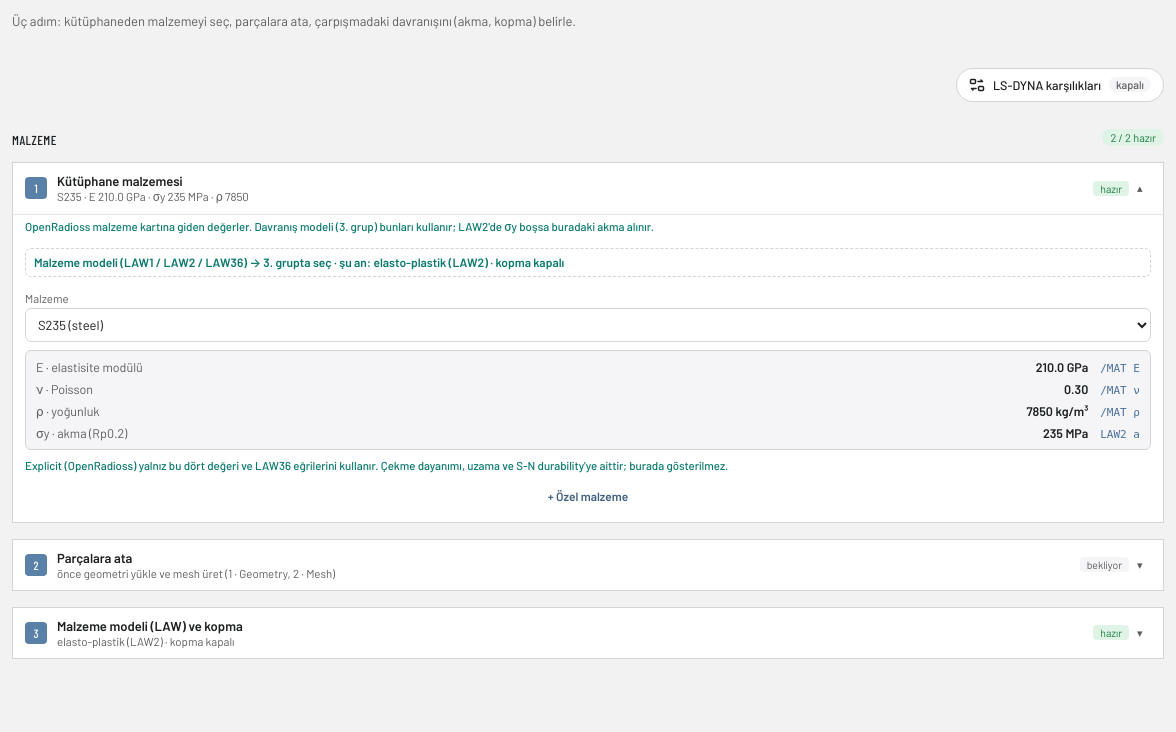
CrashMaterialStep (3 · Material, BC gibi akordeon) › geometri / mesh yokken atama grubu 'eksik' değil 'bekliyor'; sayaç 2 grup üzerinden
Expected: the text with test id "crash-mat-ready" reads "2 / 2 hazır", [1102,129,1164,146]
Step 1. Click the button "Parçalara ata" → (95, 558), box [13,540,1163,590]
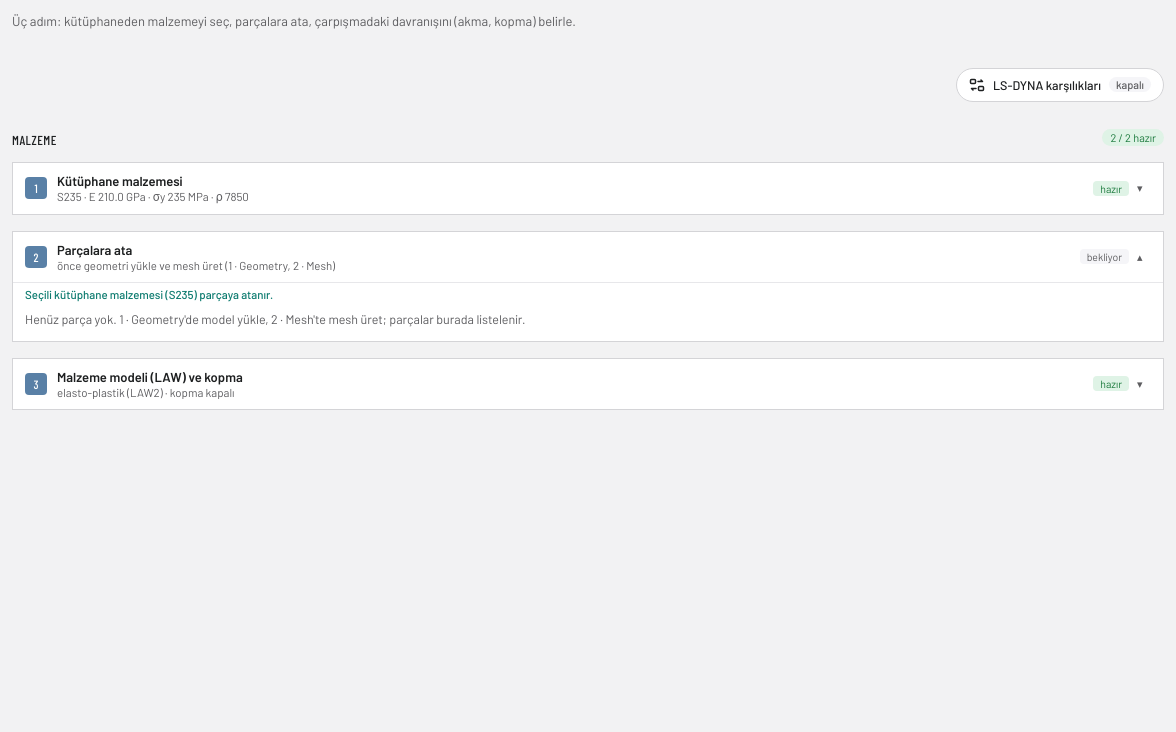
Expected: the text with test id "crash-mat-no-model" is shown, [25,311,526,327]
